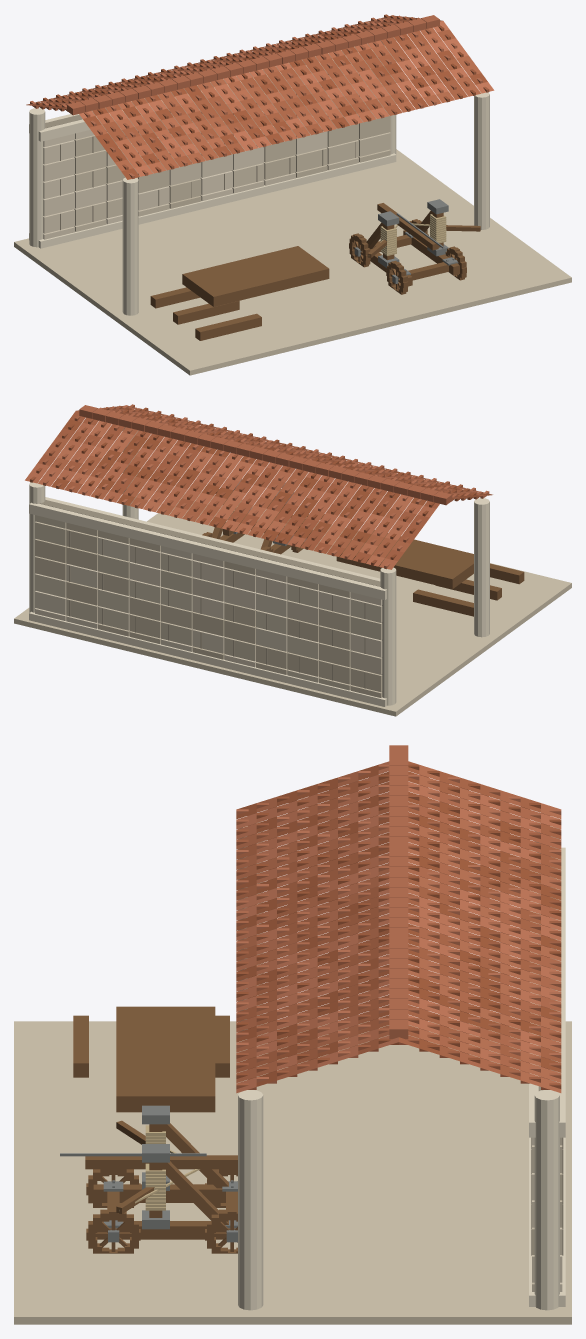
3 renders of one model, top to bottom at view 1: azimuth 30°, elevation 25°; view 2: azimuth 150°, elevation 25°; view 3: azimuth 270°, elevation 25°, orthographic. The views are drawn at different scales.
Parts seen in each view (by area): view 1: Bergfried – Steine, Säulen, Ziegel und Feuerstelle; view 2: Bergfried – Steine, Säulen, Ziegel und Feuerstelle; view 3: Bergfried – Steine, Säulen, Ziegel und Feuerstelle.
Part boxes in pixels (left/top/right/bottom): Bergfried – Steine, Säulen, Ziegel und Feuerstelle: left=14, top=14, right=571, bottom=375; Bergfried – Steine, Säulen, Ziegel und Feuerstelle: left=14, top=404, right=571, bottom=716; Bergfried – Steine, Säulen, Ziegel und Feuerstelle: left=14, top=745, right=571, bottom=1324.
Size of the model in its own units: 990 by 445 by 790.
